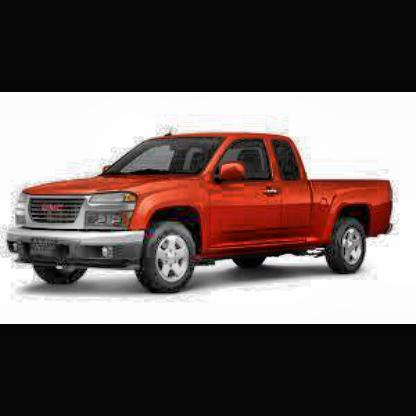GMC Canyon Extended Cab 2012: (8, 131, 396, 297)
